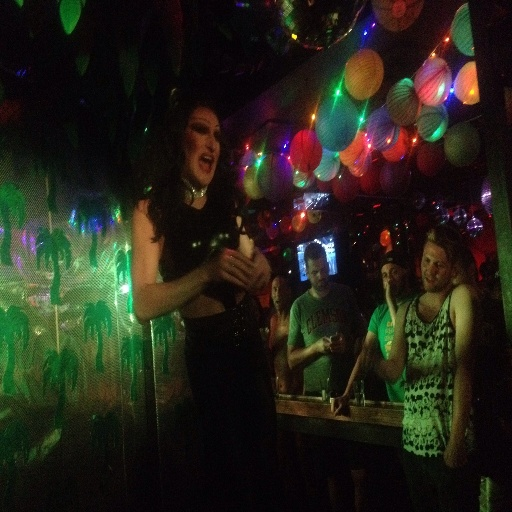hand: (209, 241, 267, 299), (247, 248, 272, 300), (444, 439, 464, 467), (330, 331, 348, 357), (360, 342, 379, 366), (330, 394, 348, 416), (382, 278, 398, 301), (314, 337, 328, 355)
